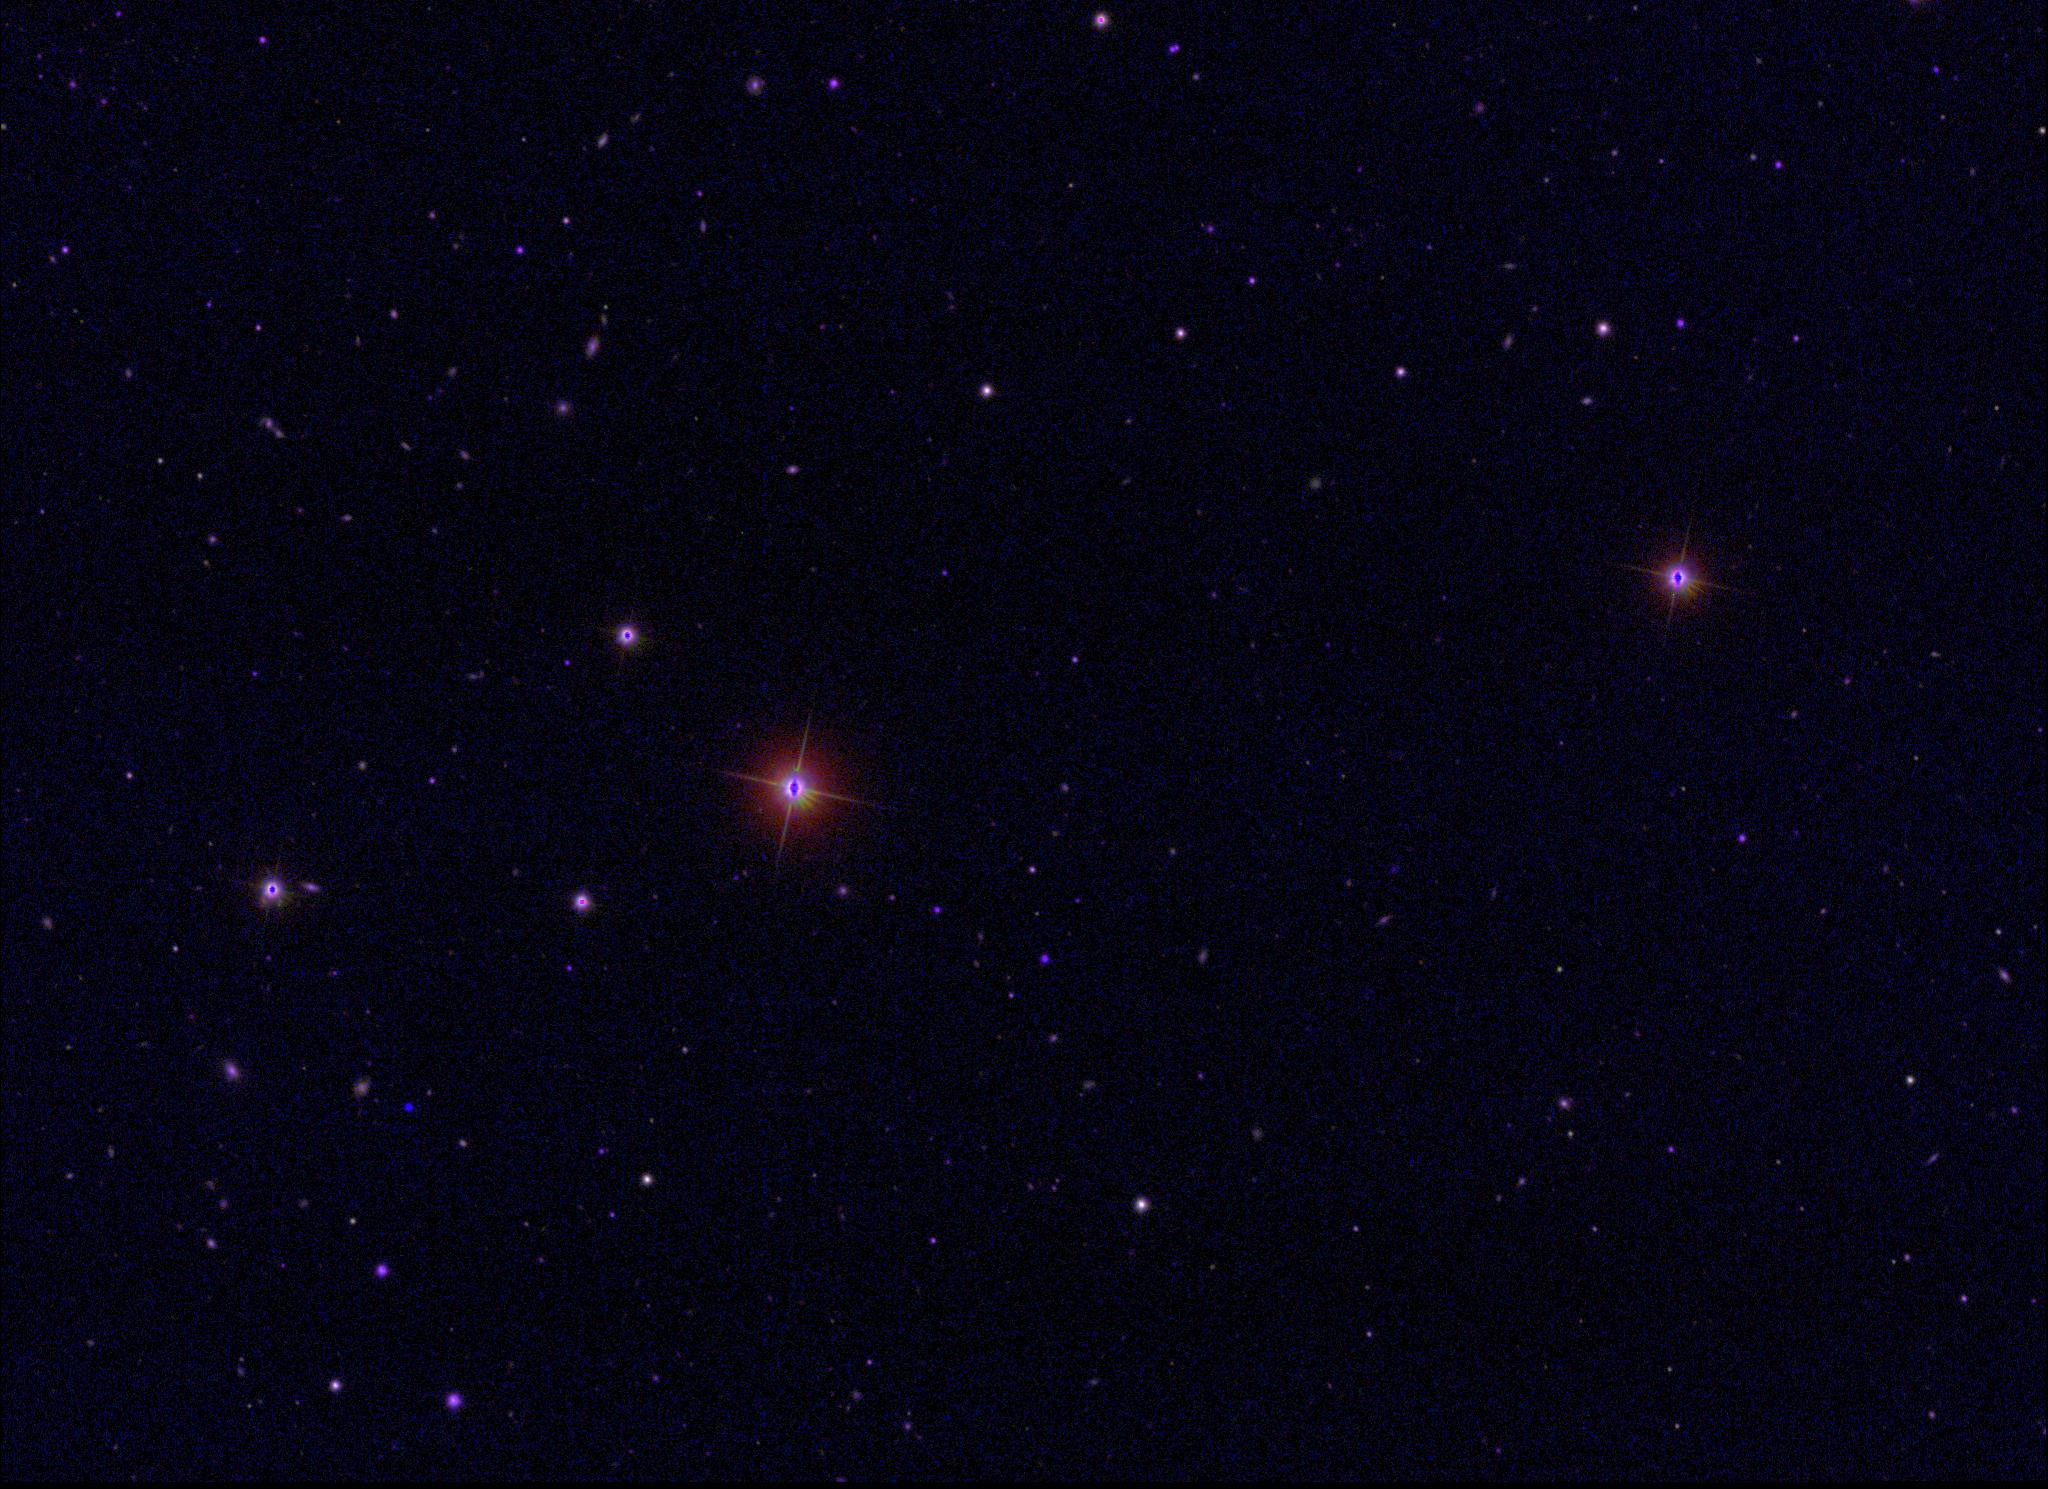L: (402, 1099, 417, 1114)
